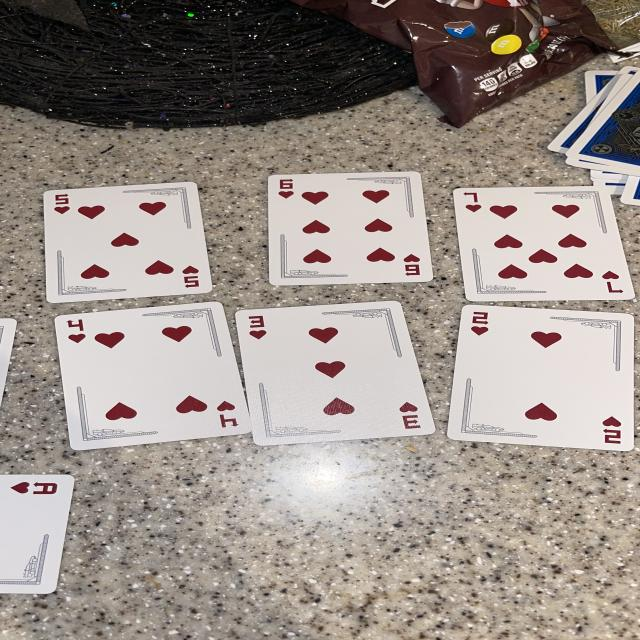2 of hearts: (447, 305, 634, 454)
3 of hearts: (235, 300, 435, 450)
4 of hearts: (52, 302, 244, 455)
5 of hearts: (41, 181, 214, 306)
6 of hearts: (264, 171, 433, 289)
7 of hearts: (451, 184, 634, 305)
Ace of hearts: (0, 473, 77, 606)
